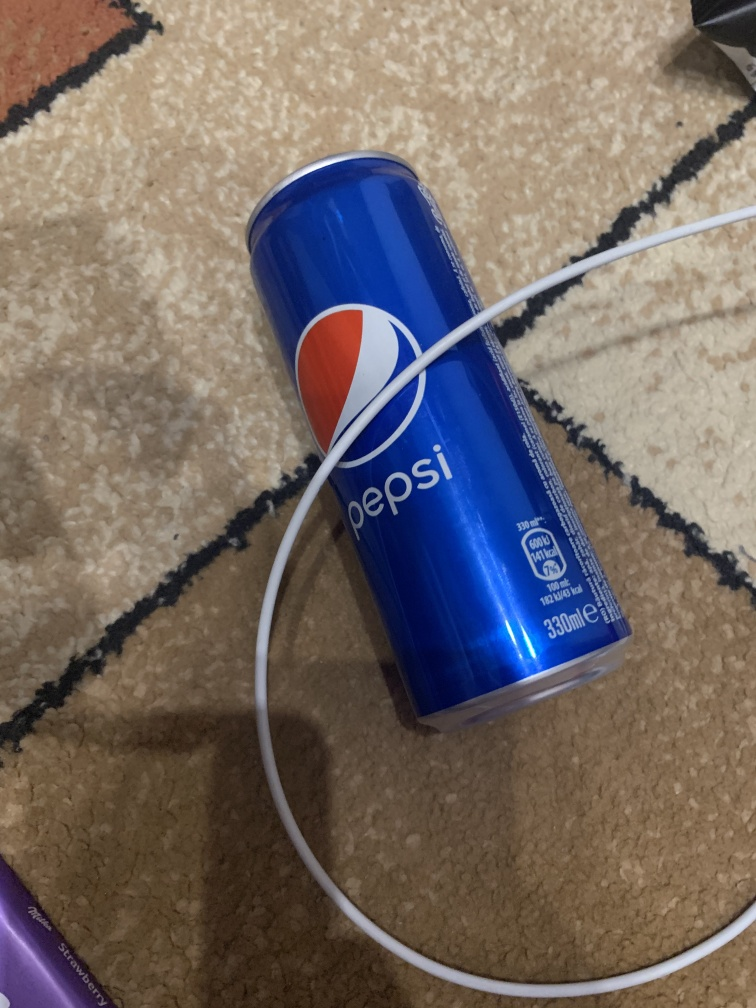pepsi: (242, 145, 646, 746)
